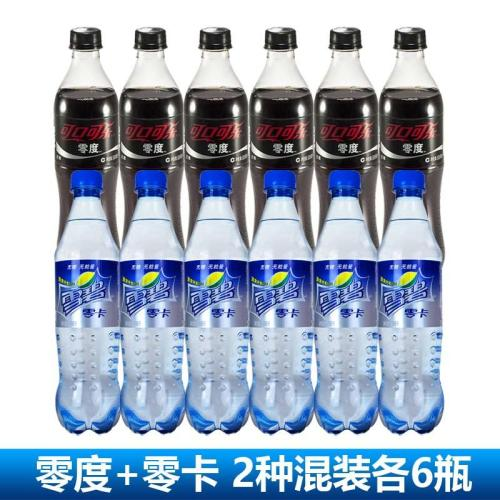coke_zero: (48, 24, 121, 169), (313, 25, 381, 178), (186, 24, 250, 176), (380, 24, 446, 170), (249, 24, 313, 172), (126, 23, 184, 175)
